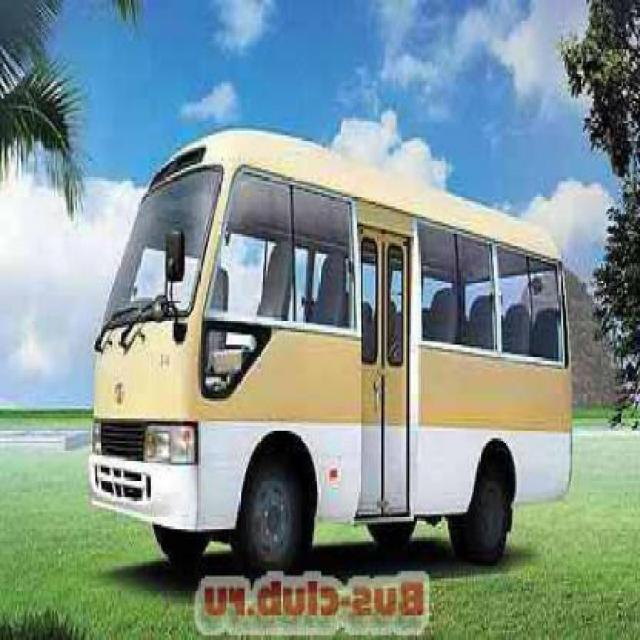bus: (96, 126, 574, 572)
